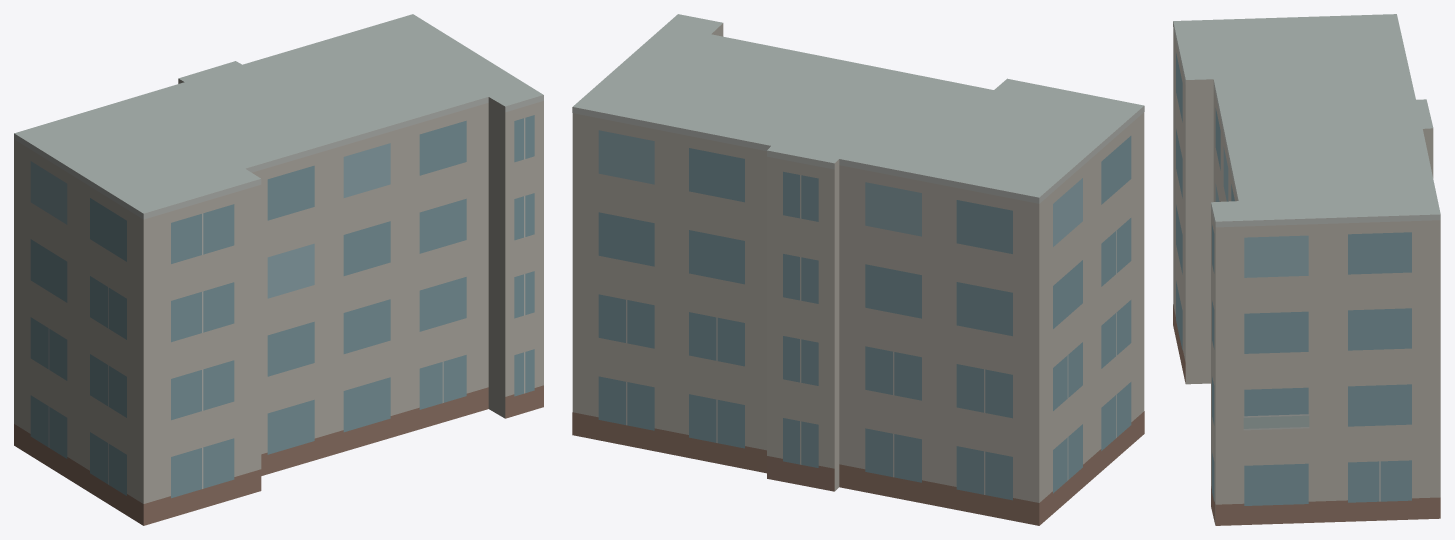
The model's file is survey-upis-32913609.glb.
3 views of the same model, side by side, from view 1: azimuth 30°, elevation 25°; view 2: azimuth 150°, elevation 25°; view 3: azimuth 270°, elevation 25° (orthographic). The views are drawn at different scales.
Visible parts, largest first — view 1: survey-upis-32913609.tmp; view 2: survey-upis-32913609.tmp; view 3: survey-upis-32913609.tmp.
Boxes of the visible parts, box(x1,y1,x2,y2) form: survey-upis-32913609.tmp: box(14, 14, 543, 525); survey-upis-32913609.tmp: box(572, 14, 1144, 525); survey-upis-32913609.tmp: box(1173, 14, 1440, 525).
Size of the model in its own units: 18.89 by 12.9 by 10.29.
